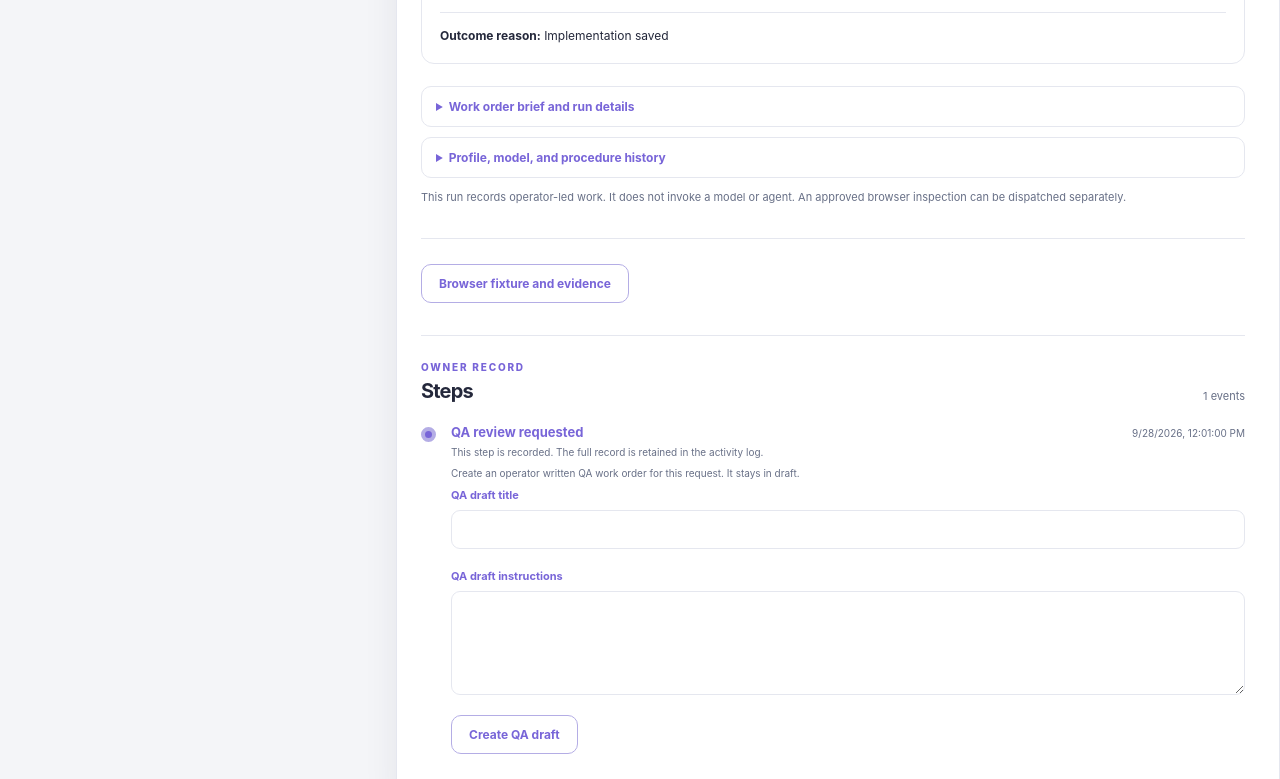
Test case: does not report success when the saved work order readback disagrees
(page scrolled)
Type "Review change" into the field labelled "QA draft title".
click(848, 529); type("Review change")  # box [451,510,1245,549]
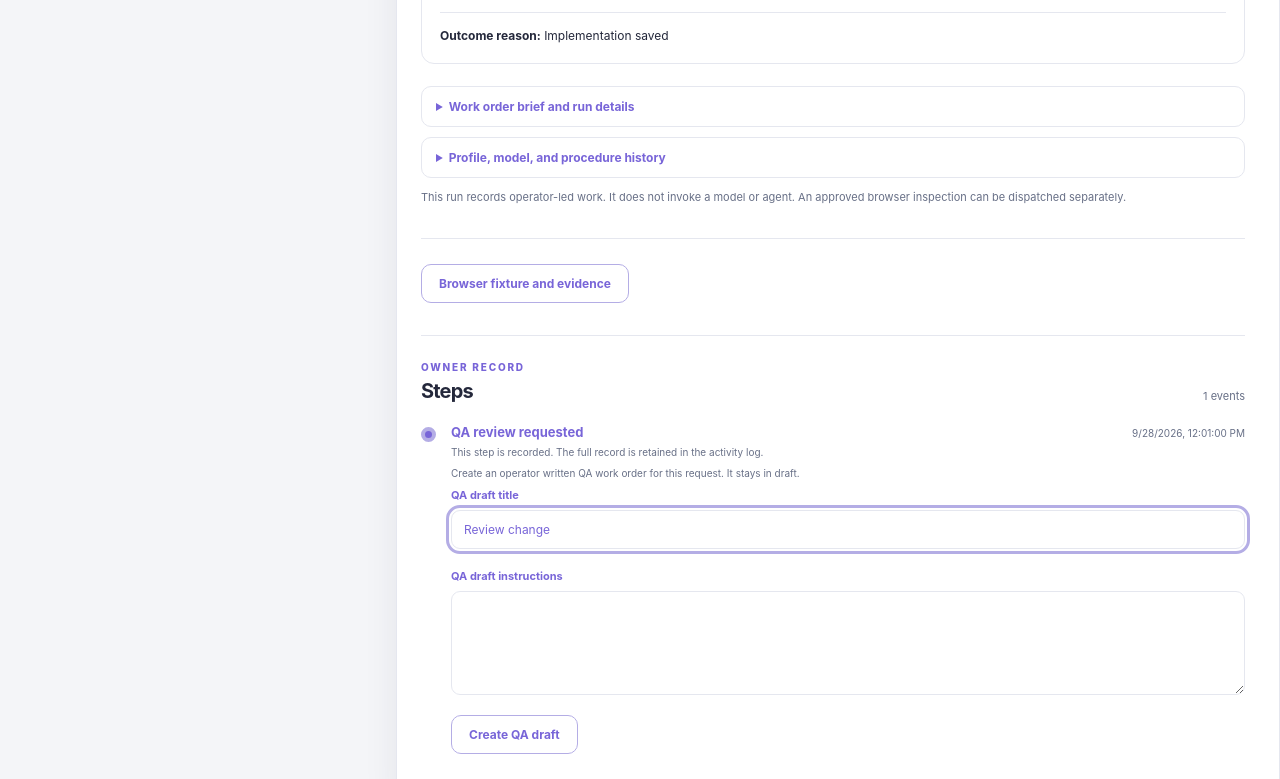
Type "Check saved diff and tests" into the text box labelled "QA draft instructions".
click(848, 643); type("Check saved diff and tests")  # box [451,591,1245,695]
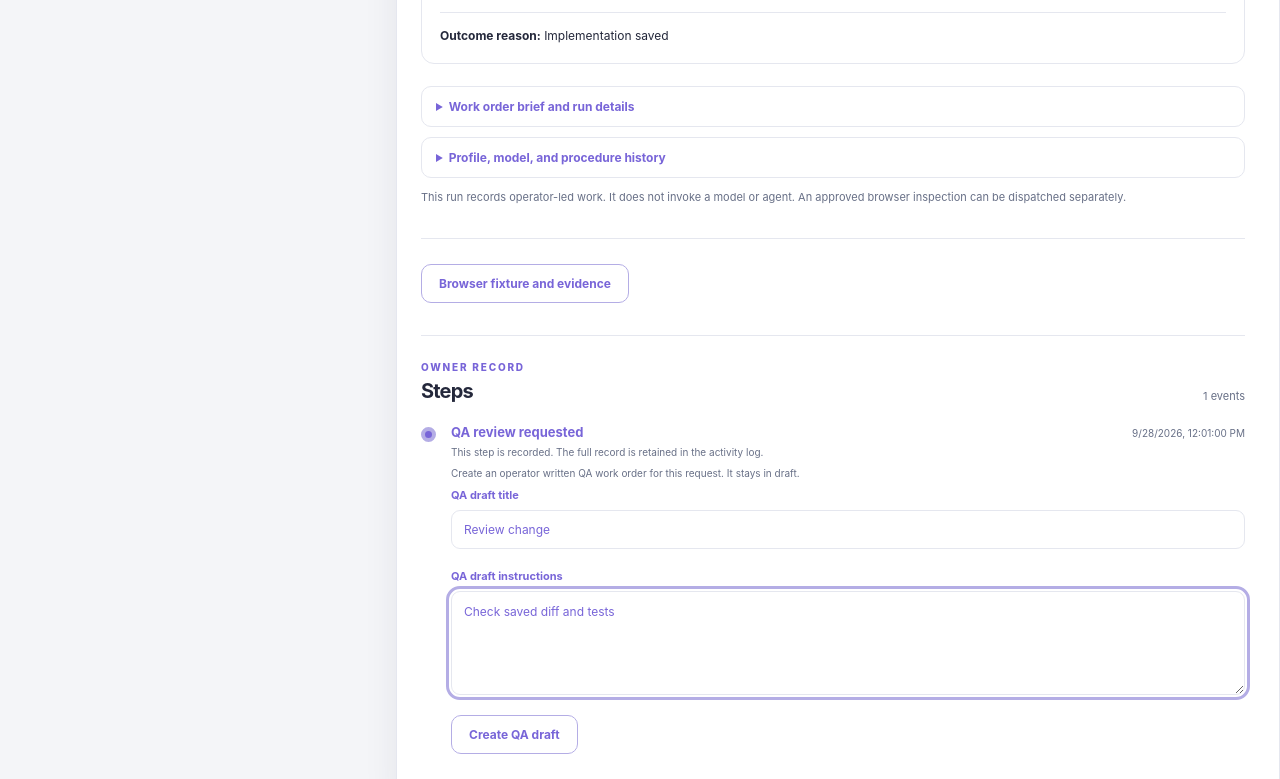
Click the button "Create QA draft".
click(514, 734)  # box [451,715,578,754]
(page scrolled)
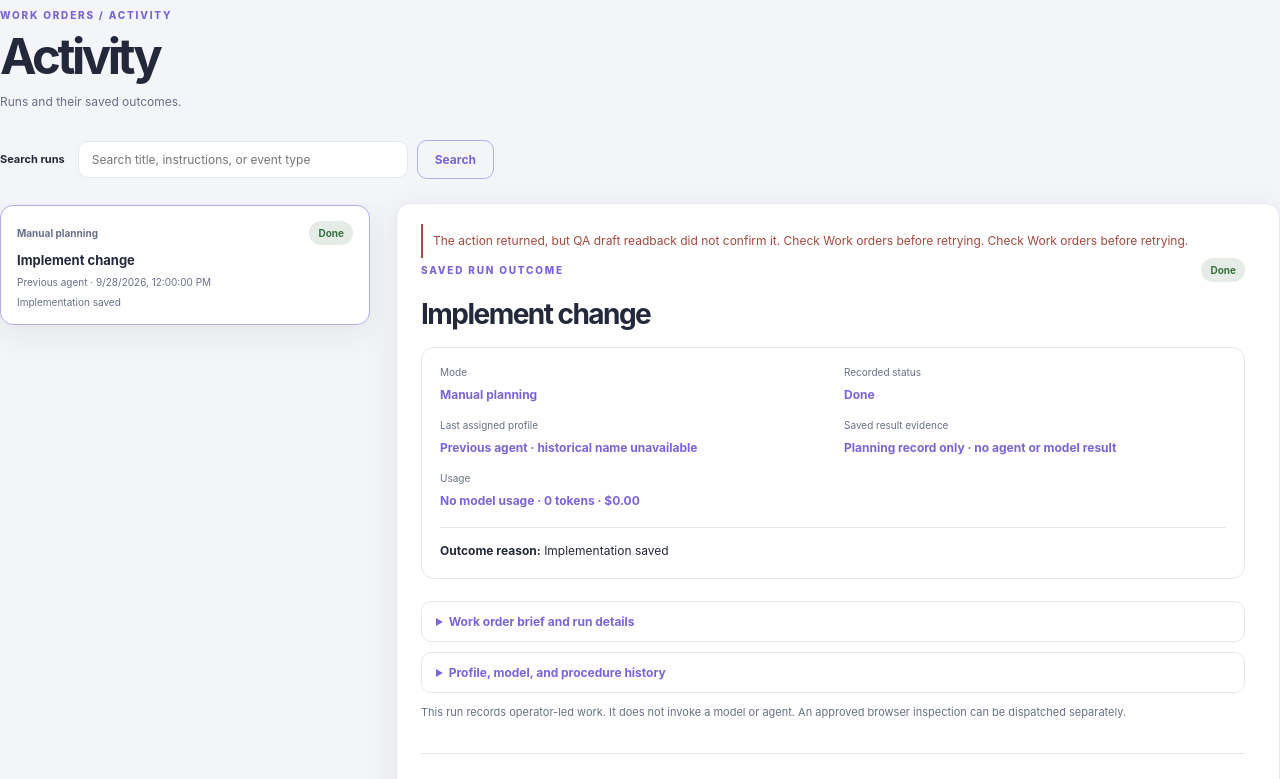
Now the message shows "readback did not confirm", box [433,232,1188,248]
